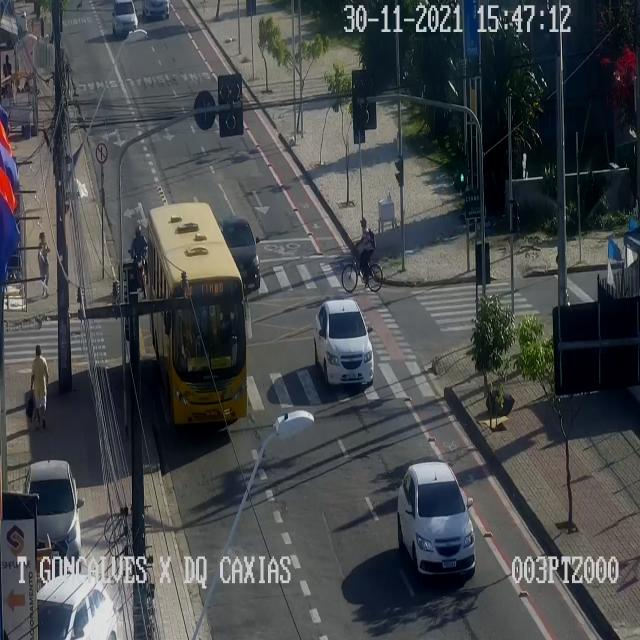Bus: (148, 202, 246, 425)
Car: (397, 462, 475, 572), (24, 460, 80, 570), (36, 573, 116, 639), (314, 300, 374, 384), (217, 218, 259, 288), (110, 0, 137, 36), (144, 0, 173, 22)
Motorcycle: (130, 224, 148, 297)
